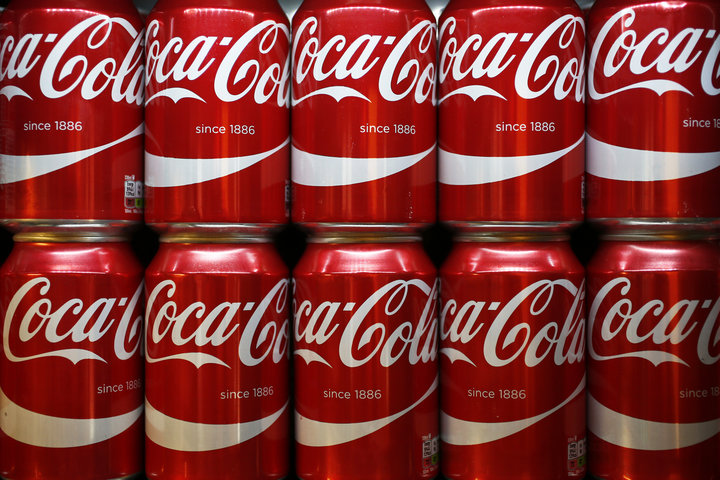coke: (444, 235, 595, 476), (291, 244, 440, 479), (446, 6, 591, 238), (2, 236, 147, 465), (1, 3, 147, 230), (146, 237, 292, 464), (300, 5, 442, 227), (153, 1, 288, 234), (595, 8, 720, 235), (595, 241, 710, 474)
